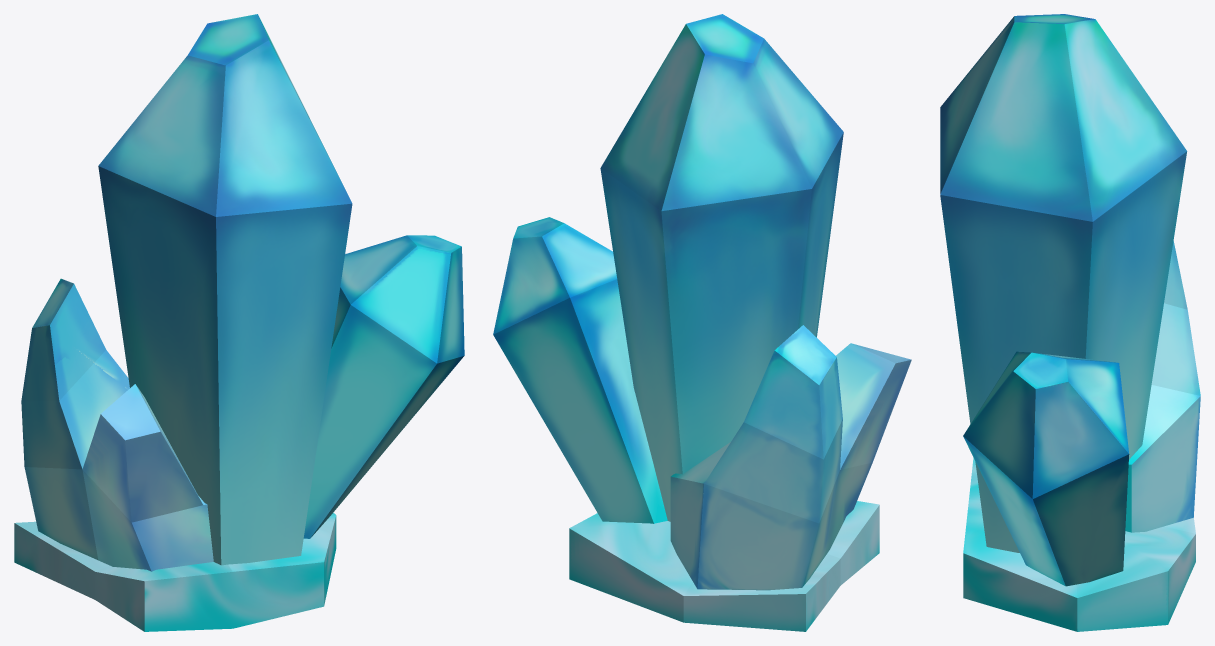
Rendered from Collectible.fbx.
The picture shows the model from 3 angles, left to right: view 1: azimuth 30°, elevation 25°; view 2: azimuth 150°, elevation 25°; view 3: azimuth 270°, elevation 25°; orthographic projection. The views are drawn at different scales.
Parts seen in each view (by area): view 1: Circle; view 2: Circle; view 3: Circle.
Part boxes in pixels (x1,y1,x2,y2): Circle: (14,14,464,631); Circle: (493,14,911,631); Circle: (940,14,1200,631).
Bounding box in the file's own units: 78.75 × 111 × 46.13.
